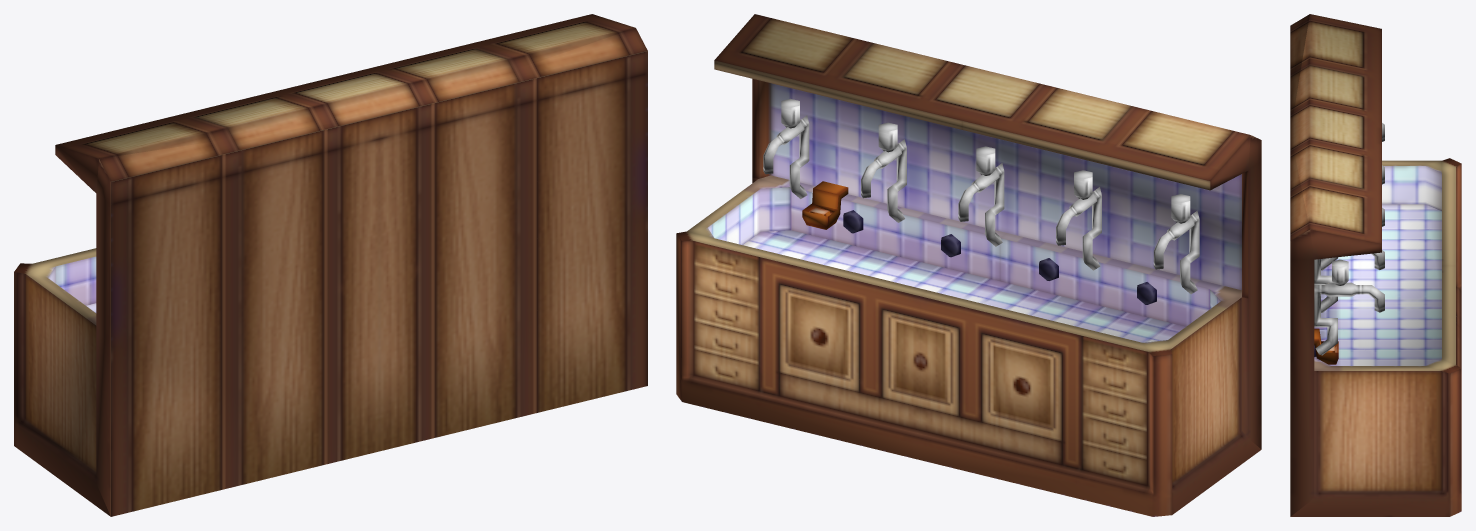
Rendered from a_SWIwater01.glb.
3 views of the same model, side by side, from view 1: azimuth 30°, elevation 25°; view 2: azimuth 150°, elevation 25°; view 3: azimuth 270°, elevation 25° (orthographic). The views are drawn at different scales.
Parts seen in each view (by area): view 1: a_SWIwater01; view 2: a_SWIwater01; view 3: a_SWIwater01.
Boxes of the visible parts, left/top/right/bottom form: a_SWIwater01: left=14, top=14, right=647, bottom=516; a_SWIwater01: left=676, top=14, right=1261, bottom=516; a_SWIwater01: left=1290, top=14, right=1461, bottom=516.
Bounding box in the file's own units: 3.24 × 2.01 × 1.09.
Materials: 1 (1 with a texture image).
